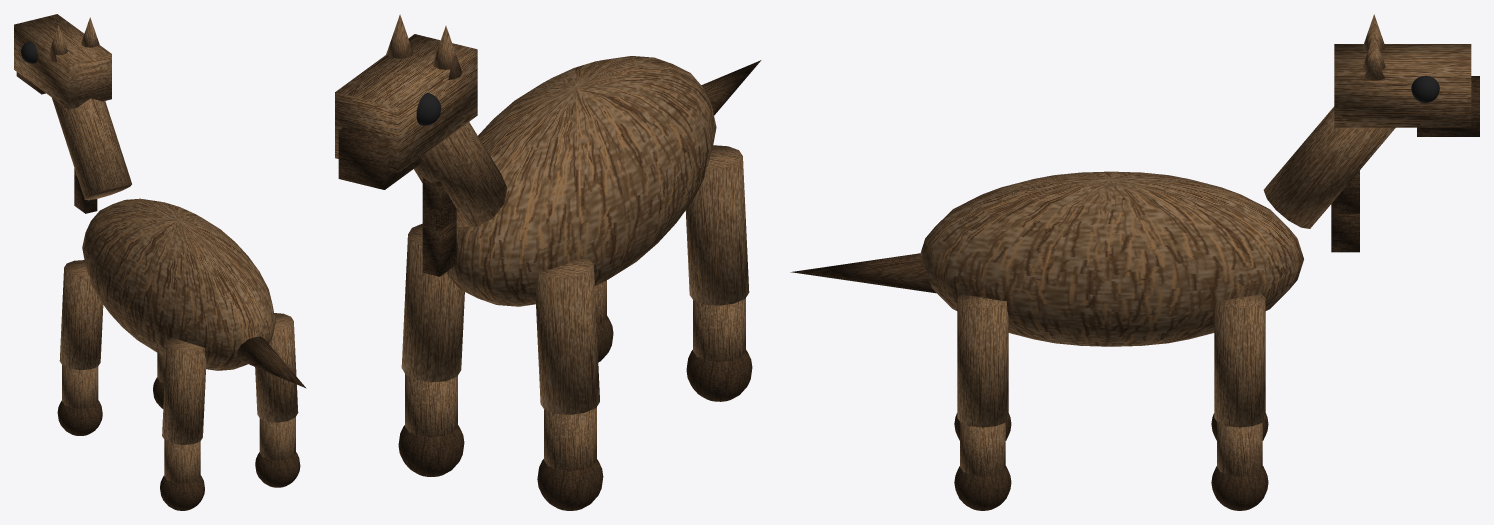
Rendered from pale-horse.glb.
3 views of the same model, side by side, from view 1: azimuth 30°, elevation 25°; view 2: azimuth 150°, elevation 25°; view 3: azimuth 270°, elevation 25° (orthographic). The views are drawn at different scales.
Visible parts, largest first — view 1: Body, HorseHead, Neck, LegUpper.001, LegUpper, LegUpper.003, LegLower, LegLower.001, LegLower.003, Tail, Paw.003, Paw.001 (+3 smaller); view 2: Body, HorseHead, LegUpper, LegUpper.001, LegUpper.002, Neck, Muzzle, LegLower, LegLower.001, LegLower.002, Paw.001, Paw.002 (+8 smaller); view 3: Body, HorseHead, Neck, LegUpper.002, LegUpper.003, Tail, LegLower.002, LegLower.003, Paw.003, Paw.002, ManeLock.002, Muzzle (+1 smaller).
Part boxes in pixels (<box>): Body: <box>82,198,275,370</box>; HorseHead: <box>14,14,111,109</box>; Neck: <box>52,98,131,200</box>; LegUpper.001: <box>162,337,206,444</box>; LegUpper: <box>59,260,103,370</box>; LegUpper.003: <box>255,313,298,422</box>; LegLower: <box>62,365,98,409</box>; LegLower.001: <box>164,440,200,483</box>; LegLower.003: <box>259,417,295,460</box>; Tail: <box>237,336,306,388</box>; Paw.003: <box>255,452,300,487</box>; Paw.001: <box>160,475,204,510</box>; Body: <box>446,56,716,306</box>; HorseHead: <box>335,34,477,173</box>; LegUpper: <box>535,257,599,414</box>; LegUpper.001: <box>685,145,749,305</box>; LegUpper.002: <box>401,223,464,382</box>; Neck: <box>414,122,507,226</box>; Muzzle: <box>338,127,420,189</box>; LegLower: <box>544,407,596,471</box>; LegLower.001: <box>693,298,745,362</box>; LegLower.002: <box>405,374,457,437</box>; Paw.001: <box>686,350,752,401</box>; Paw.002: <box>398,425,464,476</box>; Body: <box>920,171,1303,346</box>; HorseHead: <box>1334,44,1471,127</box>; Neck: <box>1263,106,1395,228</box>; LegUpper.002: <box>1214,294,1265,427</box>; LegUpper.003: <box>957,294,1008,427</box>; Tail: <box>790,253,936,293</box>; LegLower.002: <box>1217,422,1262,476</box>; LegLower.003: <box>960,422,1005,476</box>; Paw.003: <box>954,466,1011,510</box>; Paw.002: <box>1211,466,1268,510</box>; ManeLock.002: <box>1331,212,1359,252</box>; Muzzle: <box>1417,76,1479,136</box>.
Bounding box in the file's own units: 0.3886 × 1 × 1.37.
3 materials, 2 textured.
